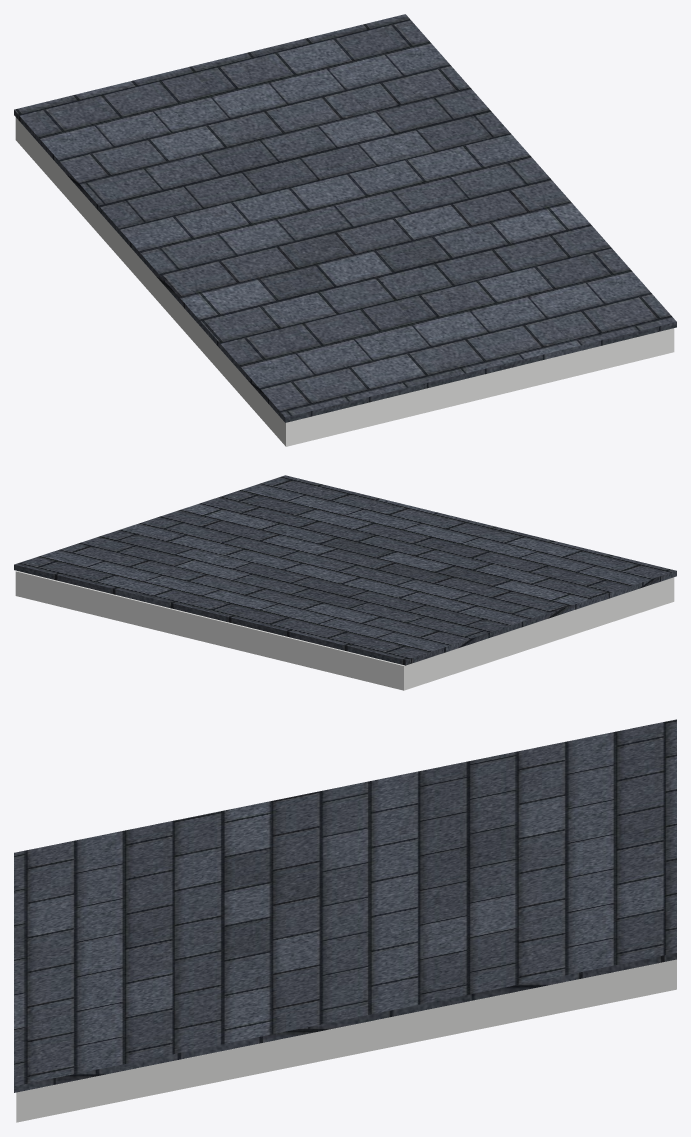
The model's file is porch_roof_end_r.glb.
3 renders of one model, top to bottom at view 1: azimuth 30°, elevation 25°; view 2: azimuth 150°, elevation 25°; view 3: azimuth 270°, elevation 25°, orthographic. The views are drawn at different scales.
Visible parts, largest first — view 1: porch_roof_end_r_shingle, porch_roof_end_r_trim; view 2: porch_roof_end_r_shingle, porch_roof_end_r_trim; view 3: porch_roof_end_r_shingle, porch_roof_end_r_trim.
Part boxes in pixels (x1,y1,x2,y2): porch_roof_end_r_shingle: [14, 14, 676, 422]; porch_roof_end_r_trim: [15, 117, 674, 446]; porch_roof_end_r_shingle: [14, 475, 676, 665]; porch_roof_end_r_trim: [15, 571, 674, 690]; porch_roof_end_r_shingle: [14, 719, 676, 1092]; porch_roof_end_r_trim: [16, 959, 676, 1122].
Size of the model in its own units: 2.25 by 0.7678 by 2.7.
Materials: 2 (1 with a texture image).
